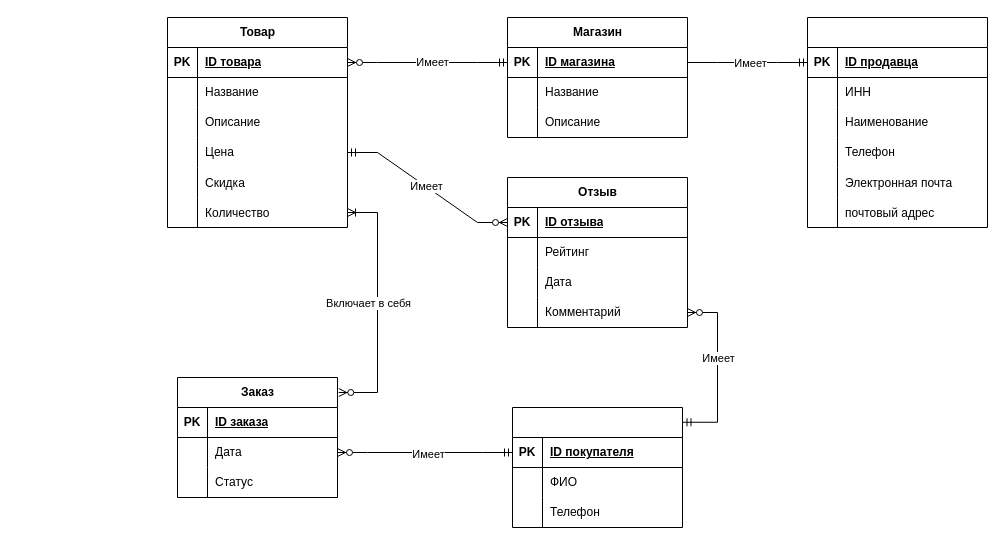
The diagram is 1005 pixels wide and 545 high, and some of its shapes have lost their labels. Here are the shapes that lost their labels. From the top down, the box of each, then its label:
(806, 16, 988, 228): Продавец
(512, 406, 682, 528): Покупатель
